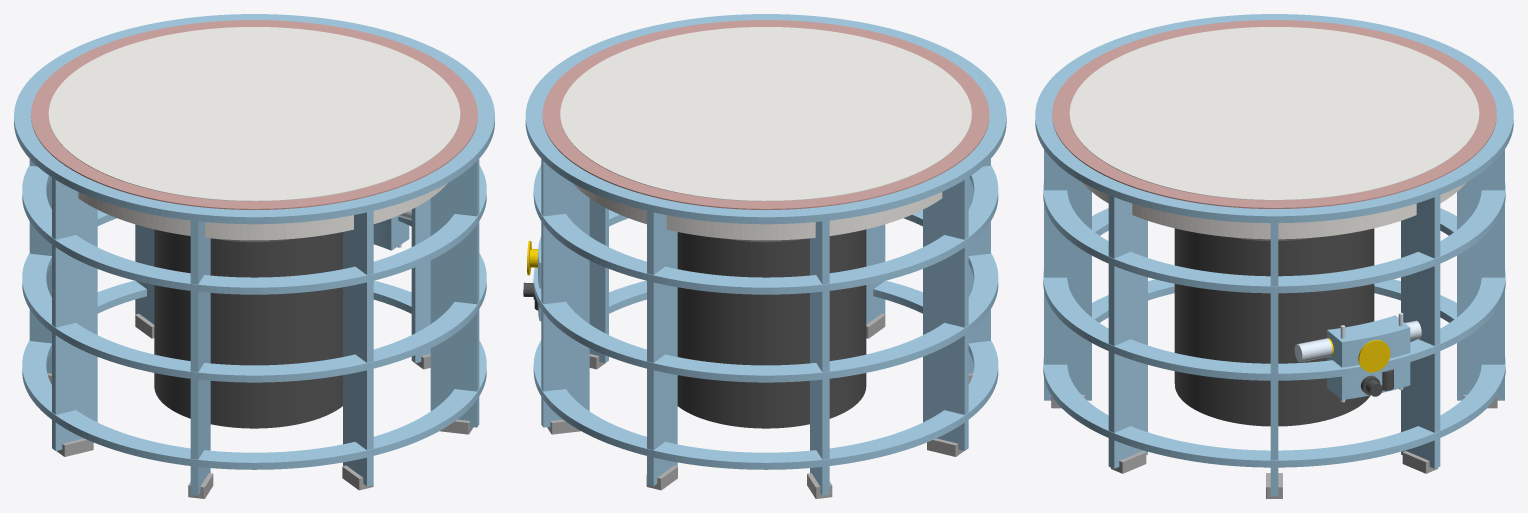
File: BarbourSmith_Gas-Fire-Pit.glb
3 views of the same model, side by side, from view 1: azimuth 30°, elevation 25°; view 2: azimuth 150°, elevation 25°; view 3: azimuth 270°, elevation 25° (orthographic).
Parts seen in each view (by area): view 1: part-39, part-41, part-37, part-38, part-21, part-27, part-25, part-30, part-33, part-36, part-29, part-32 (+6 smaller); view 2: part-39, part-41, part-37, part-38, part-21, part-15, part-17, part-30, part-33, part-36, part-28, part-34 (+6 smaller); view 3: part-39, part-41, part-37, part-38, part-27, part-15, part-17, part-25, part-28, part-29, part-32, part-34 (+11 smaller).
Boxes of the visible parts, left/top/right/bottom form: part-39: left=48, top=27, right=460, bottom=240; part-41: left=154, top=229, right=342, bottom=428; part-37: left=14, top=14, right=494, bottom=224; part-38: left=31, top=20, right=477, bottom=209; part-21: left=52, top=177, right=97, bottom=450; part-27: left=430, top=159, right=479, bottom=427; part-25: left=343, top=211, right=373, bottom=486; part-30: left=22, top=340, right=254, bottom=469; part-33: left=22, top=253, right=254, bottom=382; part-36: left=22, top=165, right=254, bottom=294; part-29: left=254, top=340, right=486, bottom=469; part-32: left=254, top=253, right=486, bottom=382; part-39: left=560, top=27, right=971, bottom=240; part-41: left=677, top=229, right=866, bottom=428; part-37: left=525, top=14, right=1006, bottom=224; part-38: left=542, top=20, right=989, bottom=209; part-21: left=923, top=177, right=968, bottom=450; part-15: left=541, top=159, right=589, bottom=427; part-17: left=647, top=211, right=677, bottom=486; part-30: left=766, top=340, right=998, bottom=469; part-33: left=766, top=253, right=998, bottom=382; part-36: left=766, top=165, right=998, bottom=294; part-28: left=533, top=340, right=765, bottom=469; part-34: left=533, top=165, right=765, bottom=294; part-39: left=1069, top=27, right=1479, bottom=239; part-41: left=1174, top=228, right=1374, bottom=426; part-37: left=1035, top=14, right=1513, bottom=223; part-38: left=1052, top=20, right=1496, bottom=208; part-27: left=1108, top=195, right=1147, bottom=468; part-15: left=1401, top=195, right=1440, bottom=468; part-17: left=1457, top=149, right=1504, bottom=400; part-25: left=1044, top=149, right=1091, bottom=400; part-28: left=1274, top=319, right=1505, bottom=467; part-29: left=1043, top=319, right=1274, bottom=467; part-32: left=1043, top=270, right=1274, bottom=380; part-34: left=1274, top=182, right=1505, bottom=293.
Bounding box in the file's own units: 749 × 503 × 749.
